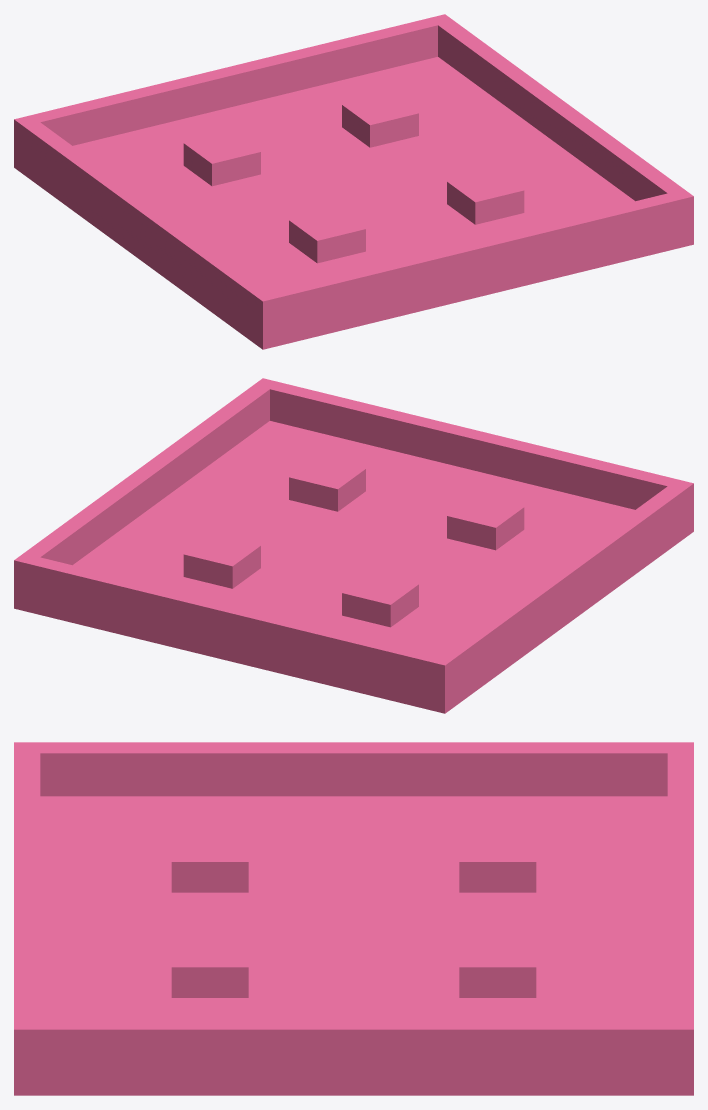
File: Town_Bld-Med_Roof-Flat.FBX
3 views of the same model, one above another, from view 1: azimuth 30°, elevation 25°; view 2: azimuth 150°, elevation 25°; view 3: azimuth 270°, elevation 25° (orthographic). The views are drawn at different scales.
Visible parts, largest first — view 1: Town_Bld-Med_Roof-Flat; view 2: Town_Bld-Med_Roof-Flat; view 3: Town_Bld-Med_Roof-Flat.
Boxes of the visible parts, <box> form: Town_Bld-Med_Roof-Flat: <box>14,14,693,349</box>; Town_Bld-Med_Roof-Flat: <box>14,378,693,713</box>; Town_Bld-Med_Roof-Flat: <box>14,742,693,1095</box>.
Size of the model in its own units: 600 by 64.21 by 600.
